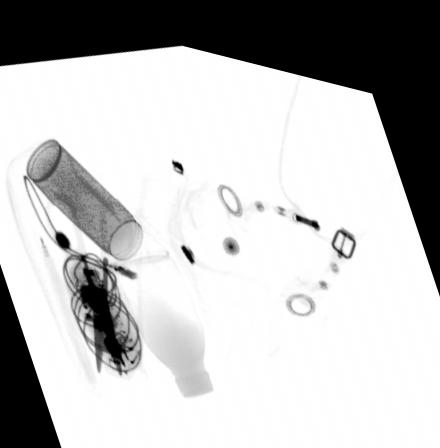Scissors: (43, 188, 133, 371)
